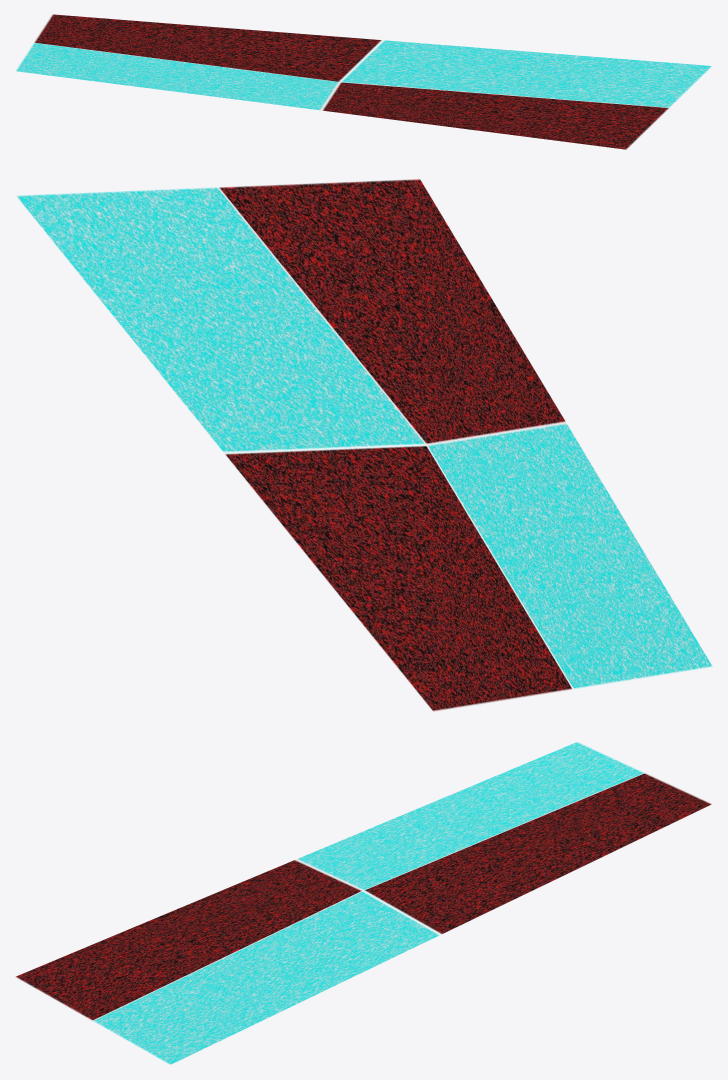
The picture shows the model from 3 angles, top to bottom: view 1: azimuth 30°, elevation 25°; view 2: azimuth 150°, elevation 25°; view 3: azimuth 270°, elevation 25°; orthographic projection. The views are drawn at different scales.
Parts seen in each view (by area): view 1: SM_VFX_GF_River09_LOD0; view 2: SM_VFX_GF_River09_LOD0; view 3: SM_VFX_GF_River09_LOD0.
Boxes of the visible parts, x1,y1,x2,y2 form: SM_VFX_GF_River09_LOD0: (16,14,711,149); SM_VFX_GF_River09_LOD0: (16,179,712,711); SM_VFX_GF_River09_LOD0: (16,742,711,1064).
Bounding box in the file's own units: 51.75 × 0.537 × 47.79.
Materials: 1 (1 with a texture image).
